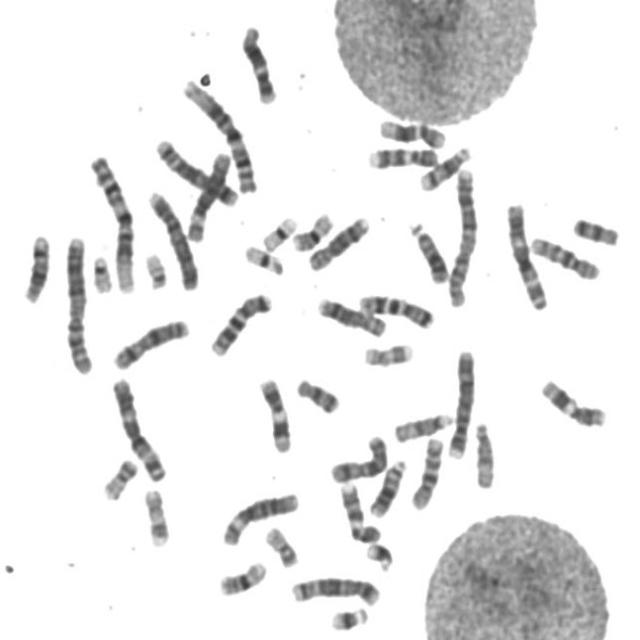A1: (176, 72, 260, 195), (84, 148, 139, 296)
A2: (442, 161, 481, 308), (59, 228, 96, 376)
A3: (106, 370, 169, 483), (500, 196, 551, 312)
B4: (142, 183, 201, 292), (442, 342, 478, 460)
B5: (150, 131, 240, 207), (286, 570, 383, 608)
C10: (524, 230, 604, 282), (406, 429, 446, 511)
C11: (535, 371, 609, 430), (253, 372, 294, 455)
C12: (236, 18, 279, 106), (374, 112, 449, 148)
C6: (216, 485, 302, 548), (182, 144, 234, 243)
C7: (205, 285, 275, 358), (353, 286, 437, 330)
C8: (303, 210, 373, 272), (312, 290, 390, 338)
C9: (335, 476, 384, 545), (362, 140, 441, 170)
D13: (404, 215, 451, 285), (364, 452, 409, 518)
D14: (414, 139, 474, 192), (18, 228, 52, 305)
D15: (389, 404, 456, 444), (469, 414, 497, 490)
E16: (213, 553, 270, 597), (287, 205, 335, 253)
E17: (139, 482, 172, 549), (358, 336, 416, 369)
E18: (291, 371, 342, 415), (568, 210, 621, 248)
F19: (257, 209, 300, 253), (238, 238, 286, 276)
F20: (97, 451, 140, 502), (260, 520, 301, 568)
G21: (324, 600, 371, 632), (361, 536, 397, 573)
G22: (140, 245, 170, 291), (87, 248, 115, 294)
X: (107, 311, 192, 372), (325, 428, 391, 484)
